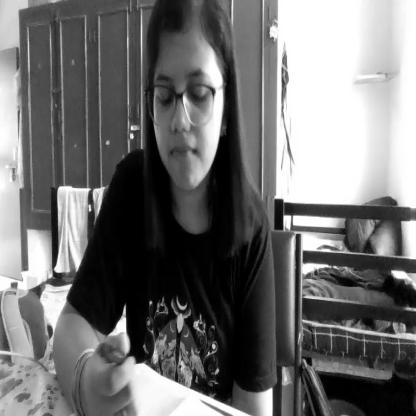Normal: (146, 0, 229, 193)
